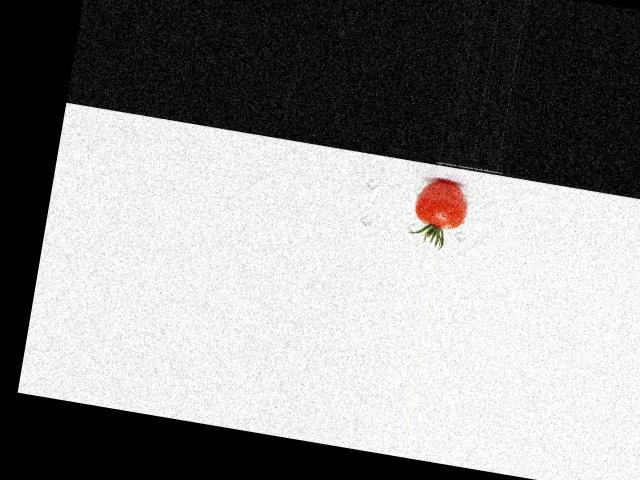tomato: (411, 176, 469, 230)
